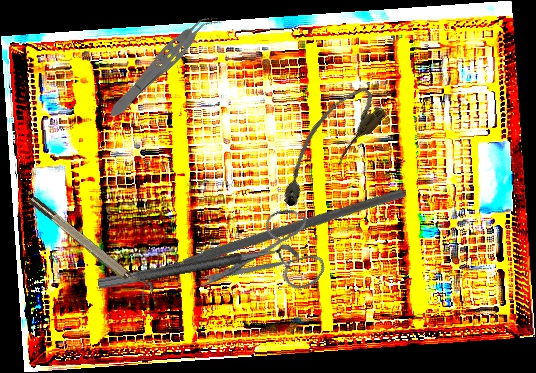Cannula: (263, 79, 391, 214)
Chopper: (131, 85, 408, 367)
Fixation Ring: (26, 188, 158, 303), (96, 241, 303, 307)
Iris Scissors: (194, 186, 343, 339)
Tissue Forceps: (102, 4, 224, 125)
